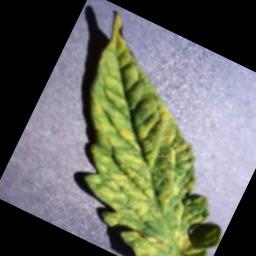Leaf_Mold: (13, 6, 256, 256)
